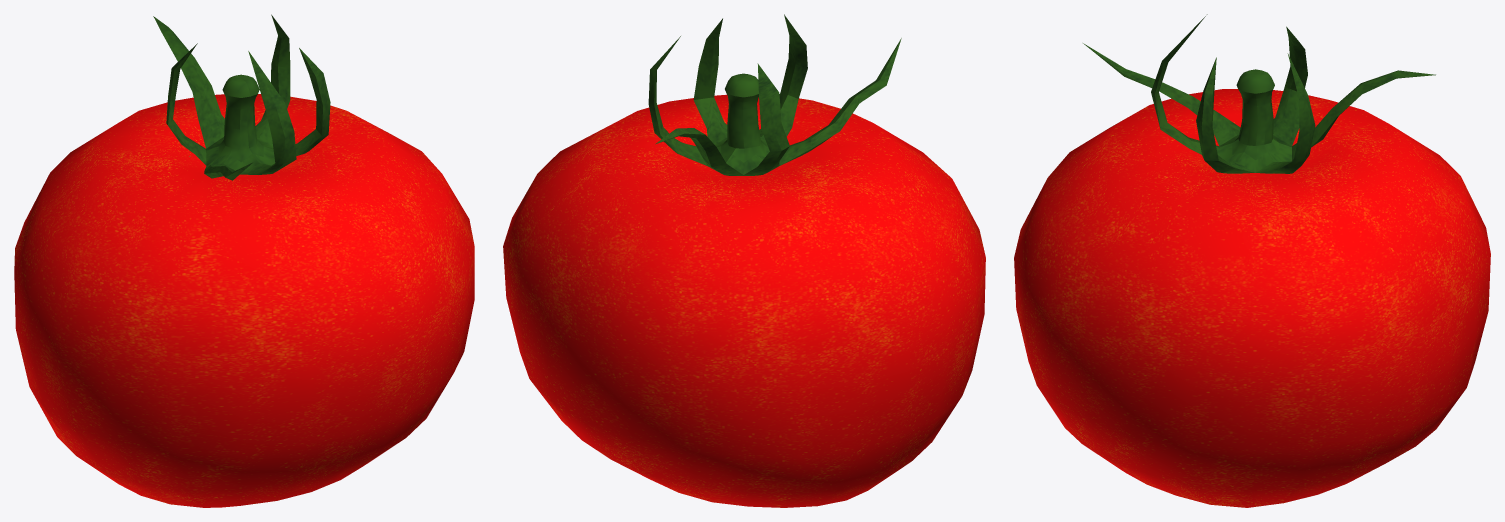
Rendered from tomato07.fbx.
The picture shows the model from 3 angles, left to right: view 1: azimuth 30°, elevation 25°; view 2: azimuth 150°, elevation 25°; view 3: azimuth 270°, elevation 25°; orthographic projection. The views are drawn at different scales.
Parts seen in each view (by area): view 1: Tomato07; view 2: Tomato07; view 3: Tomato07.
Boxes of the visible parts, left/top/right/bottom form: Tomato07: left=14, top=14, right=474, bottom=507; Tomato07: left=503, top=14, right=985, bottom=507; Tomato07: left=1014, top=14, right=1490, bottom=507.
Size of the model in its own units: 7.36 by 7.71 by 7.16.
Materials: 1 (1 with a texture image).
